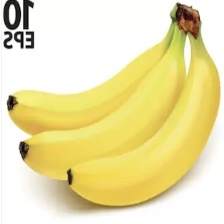banana: (26, 26, 224, 224)
